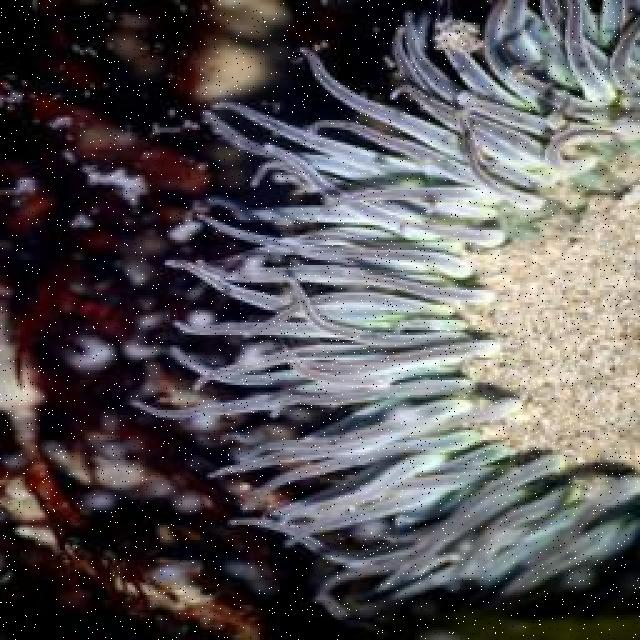reefs: (131, 0, 638, 619)
